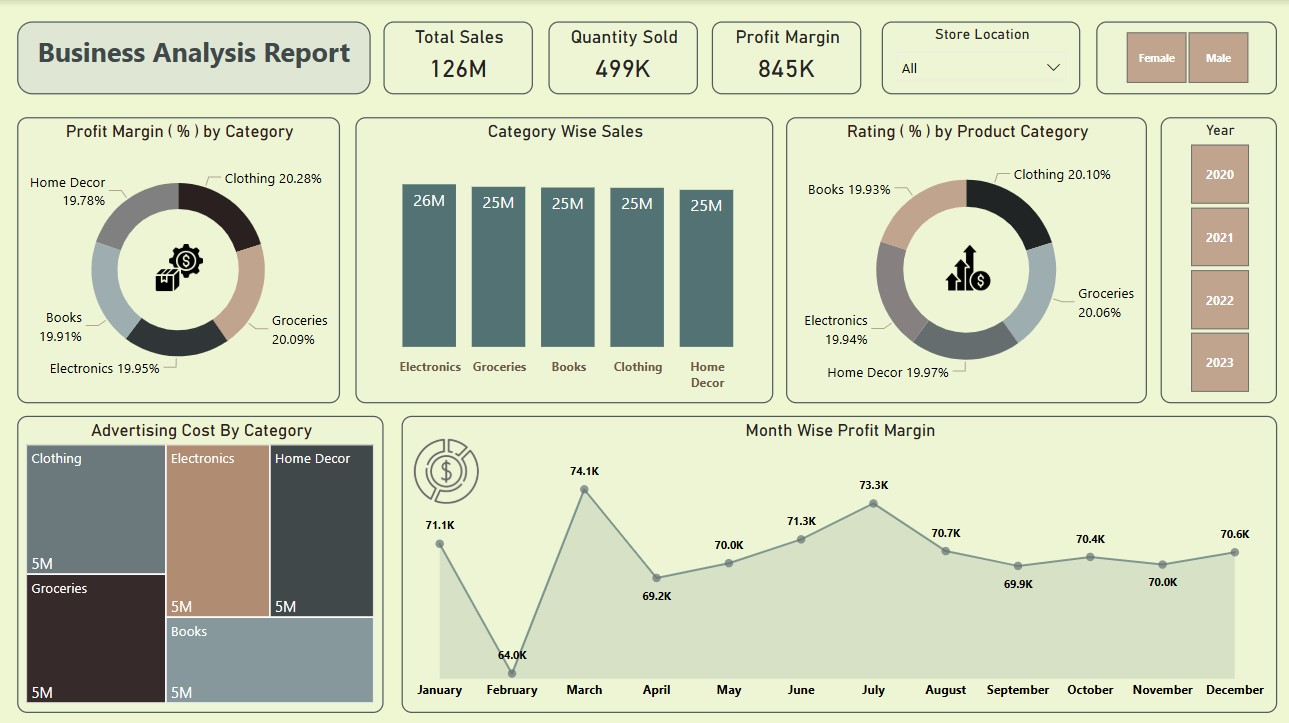

The page's visual inventory and layout, read from the dashboard file:
{"tool":"powerbi","page":{"name":"Page 1","canvas":[1280,720],"ordinal":0},"visuals":[{"type":"donutChart","title":"Rating ( % ) by Product Category","fields":{"Category":["Business Analysis Report.Product_Category"],"Y":["Sum(Business Analysis Report.Customer_Rating)"]},"box":[779.2,115.4,357.1,283.2],"z":0},{"type":"columnChart","title":"Category Wise Sales","fields":{"Category":["Business Analysis Report.Product_Category"],"Y":["Sum(Business Analysis Report.Sales)"]},"box":[351.7,115.4,413.1,283.2],"z":1000},{"type":"treemap","title":"Advertising Cost By Category","fields":{"Values":["Sum(Business Analysis Report.Advertising_Cost)"],"Group":["Business Analysis Report.Product_Category"]},"box":[18,411.3,362.6,294],"z":2000},{"type":"donutChart","title":"Profit Margin ( % ) by Category","fields":{"Category":["Business Analysis Report.Product_Category"],"Y":["Sum(Business Analysis Report.Profit_Margin (%))"]},"box":[18,115.4,319.3,283.2],"z":3000},{"type":"lineChart","title":"Month Wise Profit Margin","fields":{"Category":["Business Analysis Report.Date.Variation.Date Hierarchy.Month"],"Y":["Sum(Business Analysis Report.Profit_Margin (%))"]},"box":[398.6,411.3,865.8,294],"z":4000},{"type":"slicer","title":"Year","fields":{"Values":["Business Analysis Report.Date.Variation.Date Hierarchy.Year"]},"box":[1149,115.4,115.4,283.2],"z":5000},{"type":"slicer","title":"Store Location","fields":{"Values":["Business Analysis Report.Store_Location"]},"box":[873,21.6,196.6,72.1],"z":6000},{"type":"card","title":"Total Sales","fields":{"Values":["Sum(Business Analysis Report.Sales)"]},"box":[380.6,21.6,147.9,72.1],"z":7000},{"type":"card","title":"Quantity Sold","fields":{"Values":["Sum(Business Analysis Report.Quantity)"]},"box":[542.9,21.6,147.9,72.1],"z":8000},{"type":"card","title":"Profit Margin","fields":{"Values":["Sum(Business Analysis Report.Profit_Margin (%))"]},"box":[705.3,21.6,147.9,72.1],"z":9000},{"type":"textbox","box":[18,21.2,346,71.8],"z":10000},{"type":"slicer","fields":{"Values":["Business Analysis Report.Customer_Gender"]},"box":[1085.8,21.6,178.6,72.1],"z":11000},{"type":"image","box":[146.1,230.9,63.1,68.5],"z":12000},{"type":"image","box":[918.1,234.5,79.4,59.5],"z":13000},{"type":"image","box":[398.6,429.3,88.4,74],"z":14000}]}

Visuals, with their boxes in screenshot pixels (x1, y1, x2, y2), scaled from the page's 1280x720 canvas onto the 1289x723 screenshot:
"Rating ( % ) by Product Category" donutChart: BBox(785, 116, 1144, 400)
"Category Wise Sales" columnChart: BBox(354, 116, 770, 400)
"Advertising Cost By Category" treemap: BBox(18, 413, 383, 708)
"Profit Margin ( % ) by Category" donutChart: BBox(18, 116, 340, 400)
"Month Wise Profit Margin" lineChart: BBox(401, 413, 1273, 708)
"Year" slicer: BBox(1157, 116, 1273, 400)
"Store Location" slicer: BBox(879, 22, 1077, 94)
"Total Sales" card: BBox(383, 22, 532, 94)
"Quantity Sold" card: BBox(547, 22, 696, 94)
"Profit Margin" card: BBox(710, 22, 859, 94)
textbox: BBox(18, 21, 367, 93)
slicer - Business Analysis Report.Customer_Gender: BBox(1093, 22, 1273, 94)
image: BBox(147, 232, 211, 301)
image: BBox(925, 235, 1005, 295)
image: BBox(401, 431, 490, 505)
